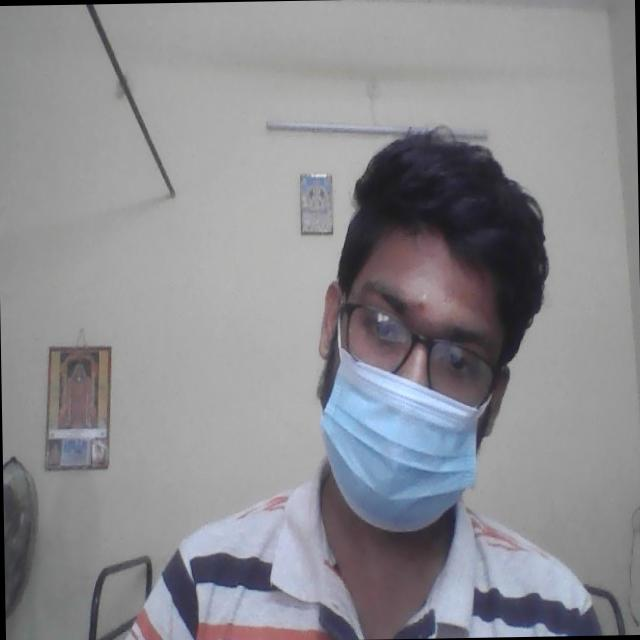Focused: (324, 247, 515, 503)
